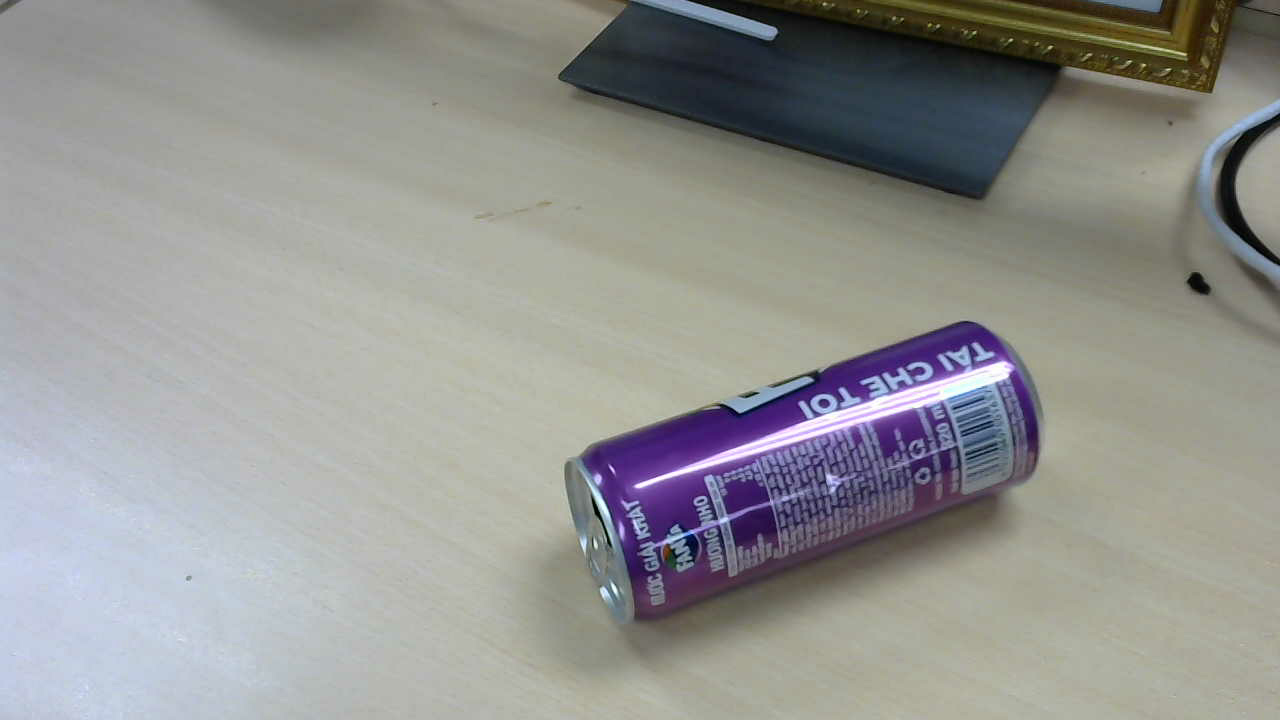Fanta: (567, 322, 1052, 631)
